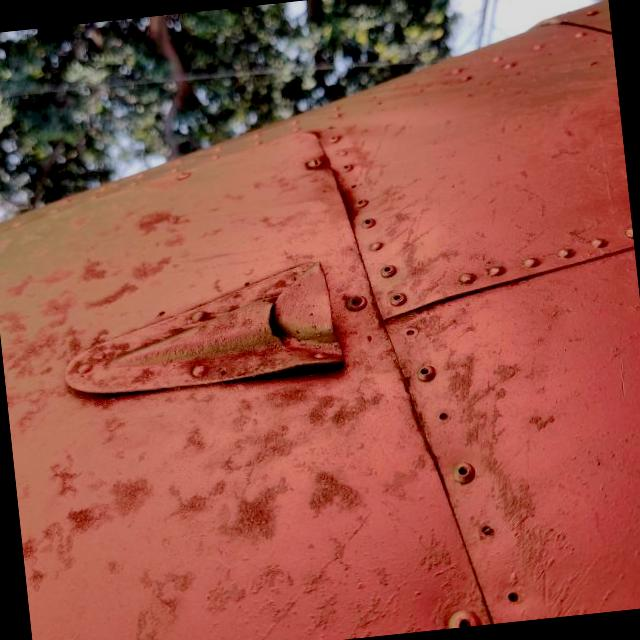crack: (252, 285, 305, 364)
